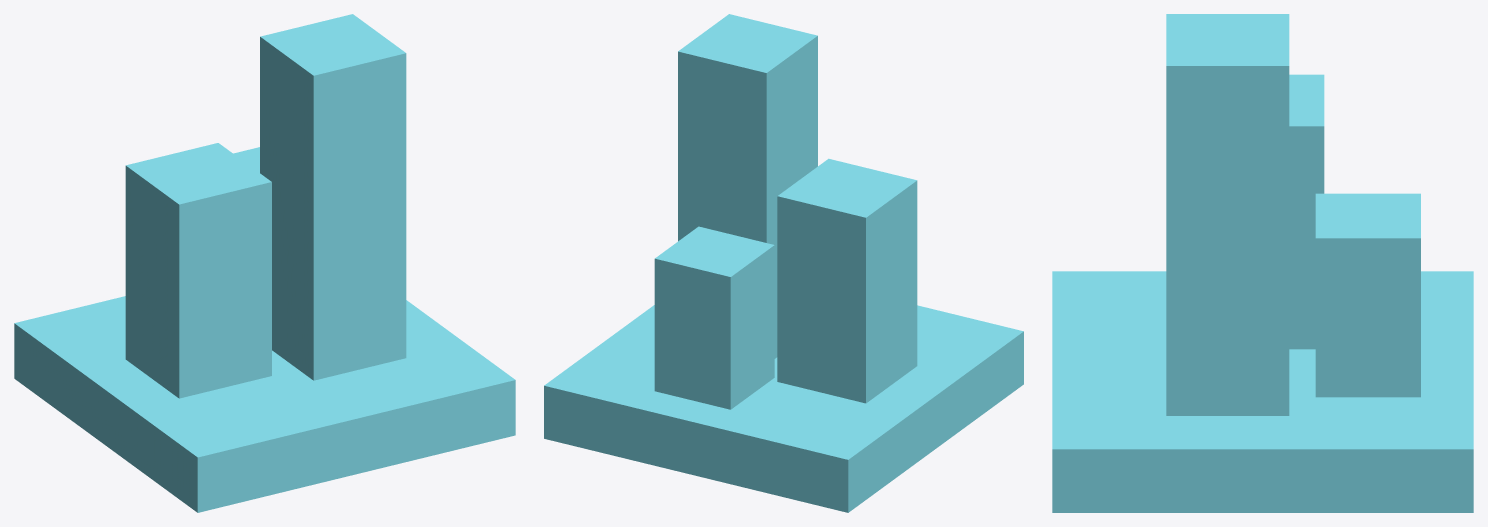
Rendered from resource.gltf.
3 renders of one model, left to right at view 1: azimuth 30°, elevation 25°; view 2: azimuth 150°, elevation 25°; view 3: azimuth 270°, elevation 25°, orthographic. The views are drawn at different scales.
Visible parts, largest first — view 1: resource; view 2: resource; view 3: resource.
Part boxes in pixels (box(x1,y1,x2,y2)): resource: box(14, 14, 515, 512); resource: box(544, 14, 1023, 512); resource: box(1052, 14, 1473, 512).
Size of the model in its own units: 1.2 by 1.3 by 1.2.
